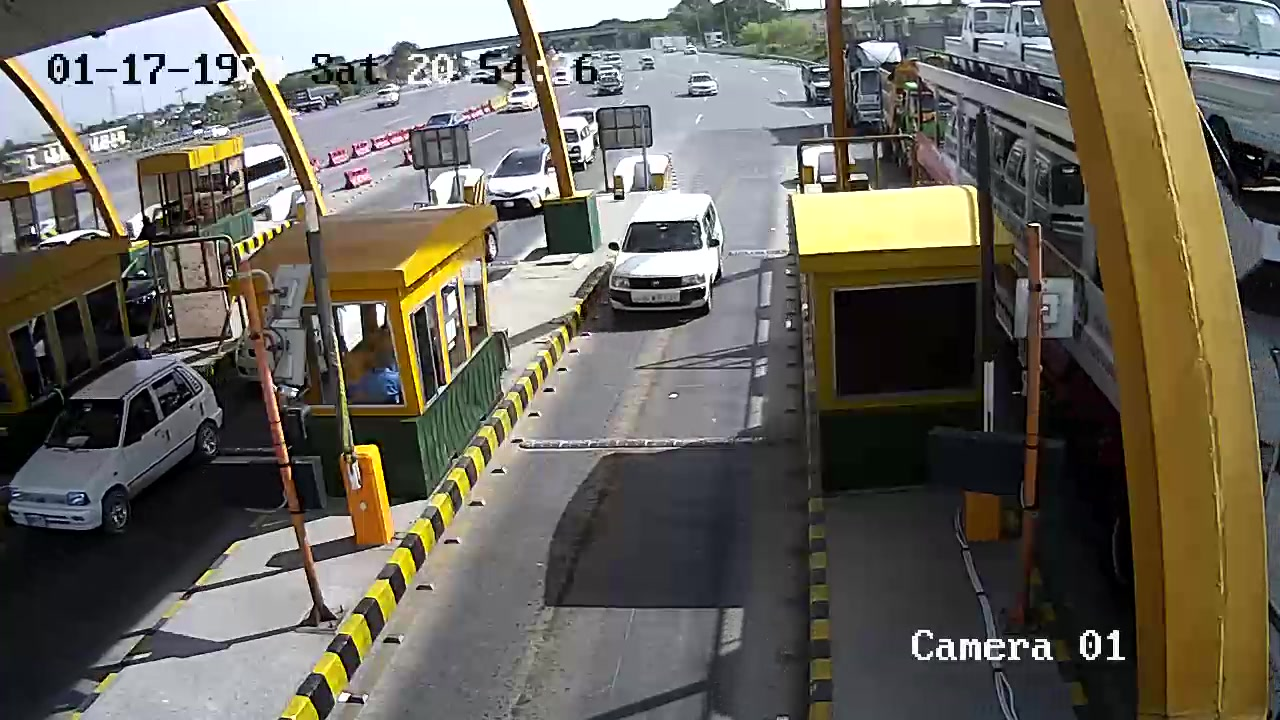F1: (603, 189, 733, 326)
